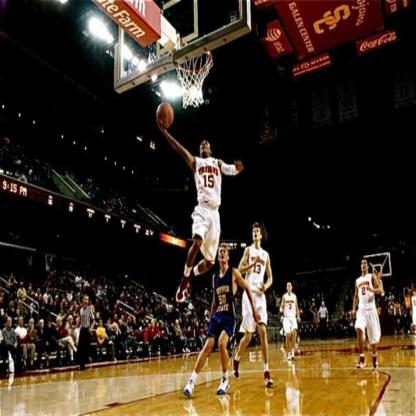face: (219, 248, 229, 264), (201, 141, 210, 154), (254, 229, 261, 241), (362, 261, 368, 273), (287, 283, 293, 292), (85, 297, 90, 306), (8, 319, 13, 327), (20, 319, 24, 327), (59, 320, 63, 326), (17, 307, 21, 313), (41, 321, 44, 328), (100, 321, 103, 327), (130, 317, 133, 323), (120, 320, 123, 326), (31, 321, 34, 326), (71, 319, 74, 324), (115, 316, 118, 321), (122, 316, 125, 321), (39, 290, 42, 295), (49, 321, 51, 327), (323, 302, 326, 306), (62, 308, 64, 313), (41, 296, 43, 301), (77, 307, 79, 312), (110, 318, 112, 323), (153, 322, 155, 327), (30, 289, 32, 294), (47, 289, 49, 294), (414, 291, 416, 296), (177, 322, 179, 326), (22, 284, 24, 288), (12, 303, 14, 306), (57, 297, 59, 300)
